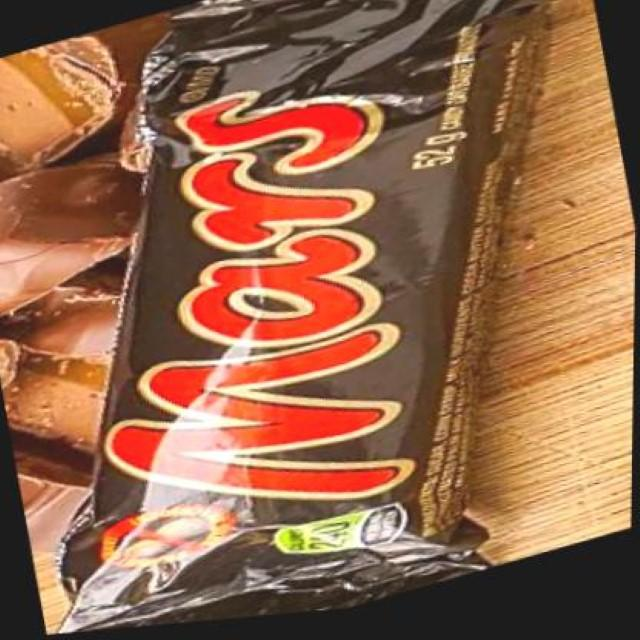mars_chocolate: (161, 28, 478, 640)
